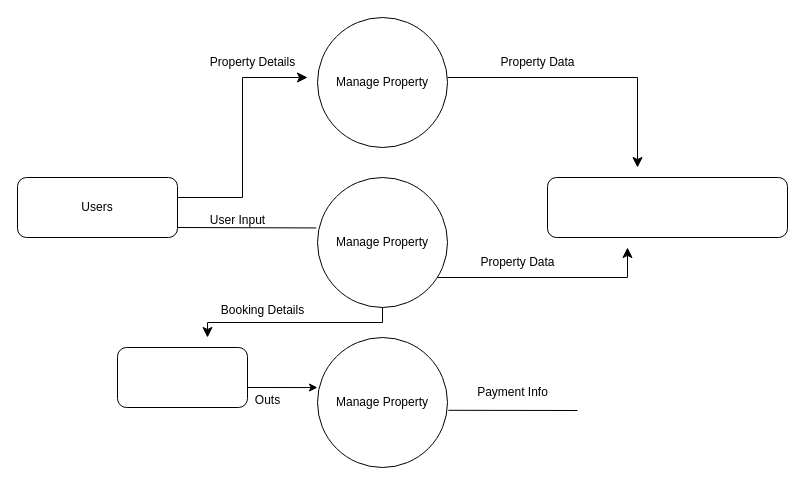
Some shapes in this 805 by 485 pixel diagram are drawn without their labels. The shapes that lost their labels are listed below. From the top down, each one's centre as x and y in pixels, then its label:
At pixel 667 207: "Payments".
At pixel 182 377: "Bookings".
